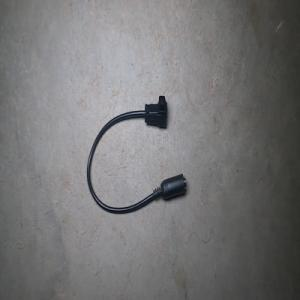Wire: (86, 95, 186, 214)
